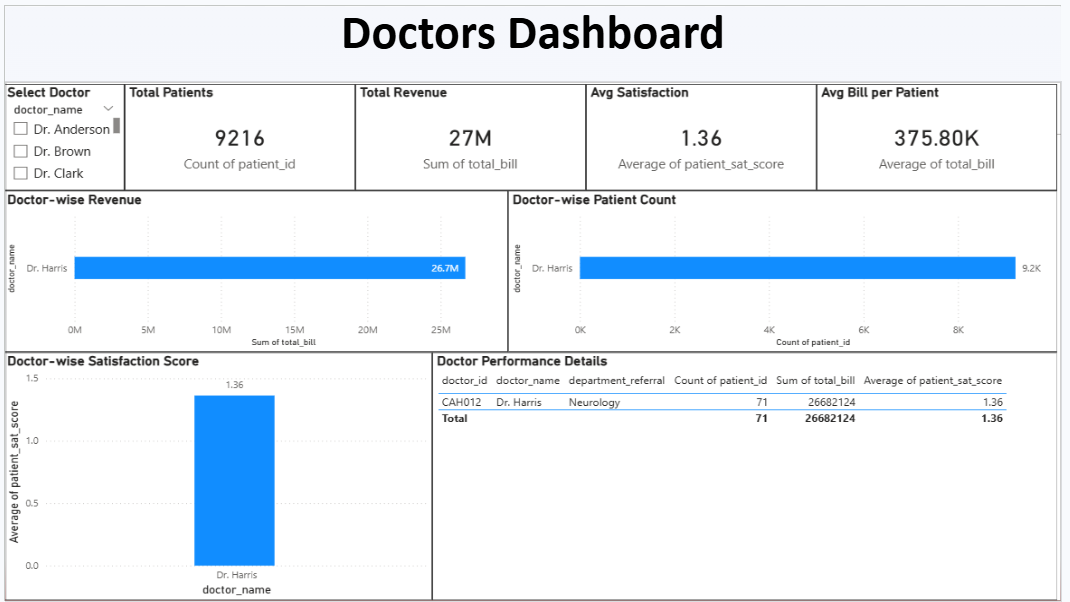

The dashboard page shown, as its layout file describes it:
{"tool":"powerbi","page":{"name":"DOCTORS TAB","canvas":[1280,720],"ordinal":2},"visuals":[{"type":"slicer","title":"Select Doctor","fields":{"Values":["Sheet1.doctor_name"]},"box":[0,49.4,148.2,138.6],"z":0},{"type":"card","title":"Total Revenue","fields":{"Values":["Sum(Sheet1.total_bill)"]},"box":[428.1,49.4,279.9,138.6],"z":1},{"type":"card","title":"Avg Satisfaction","fields":{"Values":["Avg(Hospital ER (1).patient_sat_score)"]},"box":[708.1,49.4,279.9,138.6],"z":2},{"type":"card","title":"Avg Bill per Patient","fields":{"Values":["Avg(Sheet1.total_bill)"]},"box":[988,49.4,292.3,138.6],"z":3},{"type":"card","title":"Total Patients","fields":{"Values":["CountNonNull(Hospital ER (1).patient_id)"]},"box":[148.2,49.4,279.9,138.6],"z":4},{"type":"clusteredBarChart","title":"Doctor-wise Patient Count","fields":{"Category":["Sheet1.doctor_name"],"Y":["CountNonNull(Hospital ER (1).patient_id)"]},"box":[613.4,188,666.9,209.9],"z":5},{"type":"clusteredBarChart","title":"Doctor-wise Revenue","fields":{"Category":["Sheet1.doctor_name"],"Y":["Sum(Sheet1.total_bill)"]},"box":[0,188,613.4,209.9],"z":6},{"type":"clusteredColumnChart","title":"Doctor-wise Satisfaction Score","fields":{"Category":["Sheet1.doctor_name"],"Y":["Avg(Hospital ER (1).patient_sat_score)"]},"box":[0,397.9,521.4,322.5],"z":7},{"type":"tableEx","title":"Doctor Performance Details","fields":{"Values":["Sheet1.doctor_id","Sheet1.doctor_name","Sheet1.department_referral","Sheet1.patient_id","Sum(Sheet1.total_bill)","Avg(Hospital ER (1).patient_sat_score)"]},"box":[521.4,397.9,758.8,322.5],"z":8}]}

Visuals, with their boxes in screenshot pixels (x1, y1, x2, y2), scaled from the page's 1280x720 canvas onto the 1070x602 screenshot:
"Select Doctor" slicer: box=[0, 41, 124, 157]
"Total Revenue" card: box=[358, 41, 592, 157]
"Avg Satisfaction" card: box=[592, 41, 826, 157]
"Avg Bill per Patient" card: box=[826, 41, 1069, 157]
"Total Patients" card: box=[124, 41, 358, 157]
"Doctor-wise Patient Count" clusteredBarChart: box=[513, 157, 1069, 333]
"Doctor-wise Revenue" clusteredBarChart: box=[0, 157, 513, 333]
"Doctor-wise Satisfaction Score" clusteredColumnChart: box=[0, 333, 436, 601]
"Doctor Performance Details" tableEx: box=[436, 333, 1069, 601]
